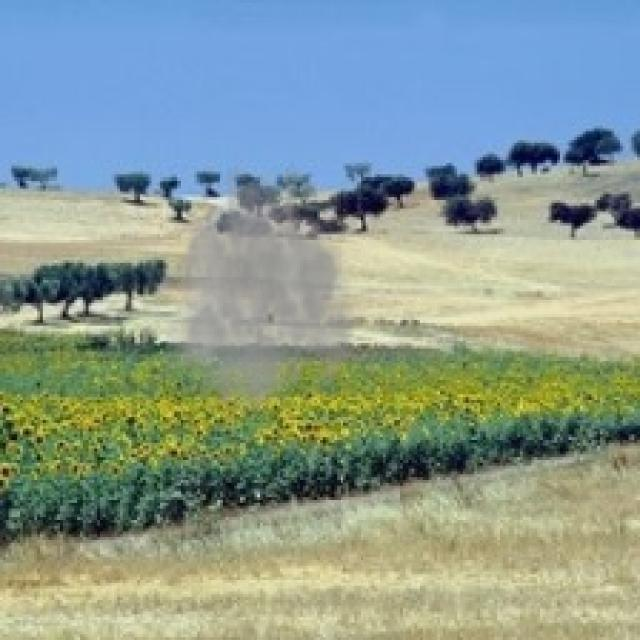Smoke: (165, 160, 368, 423)
